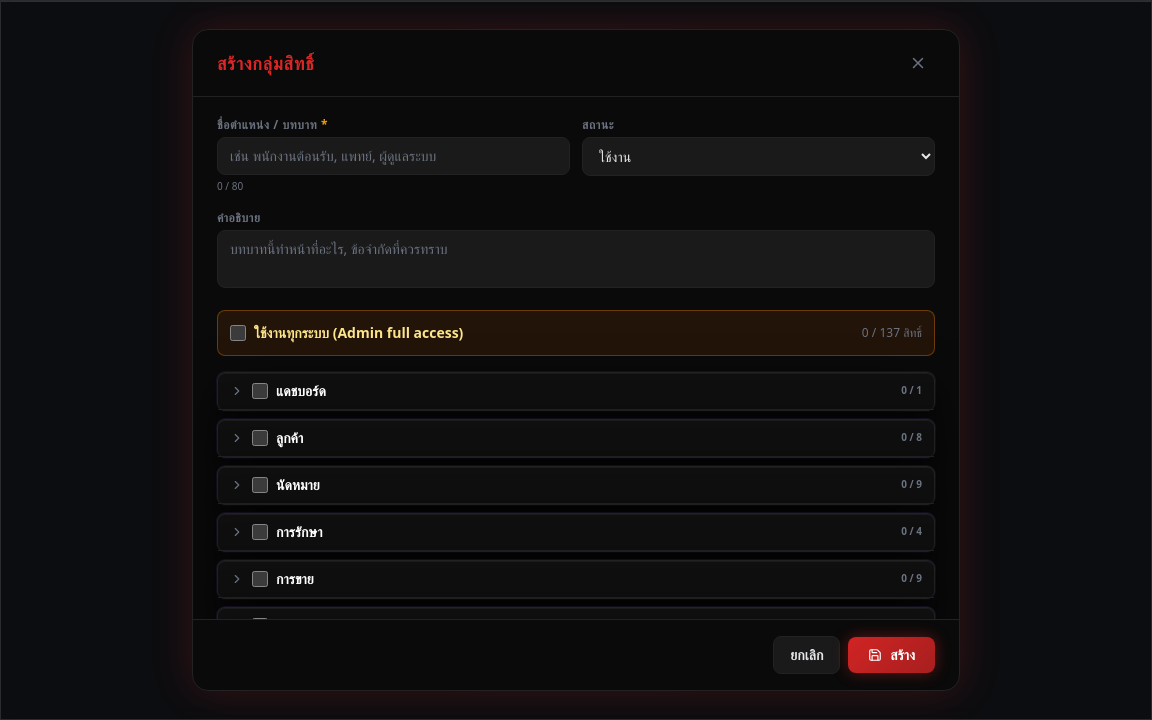
Test: PermissionGroupFormModal — PGM1..PGM6 › PGM2: empty name → error
Click the button "สร้าง".
click(892, 655)  # box [848,637,935,673]
(page scrolled)
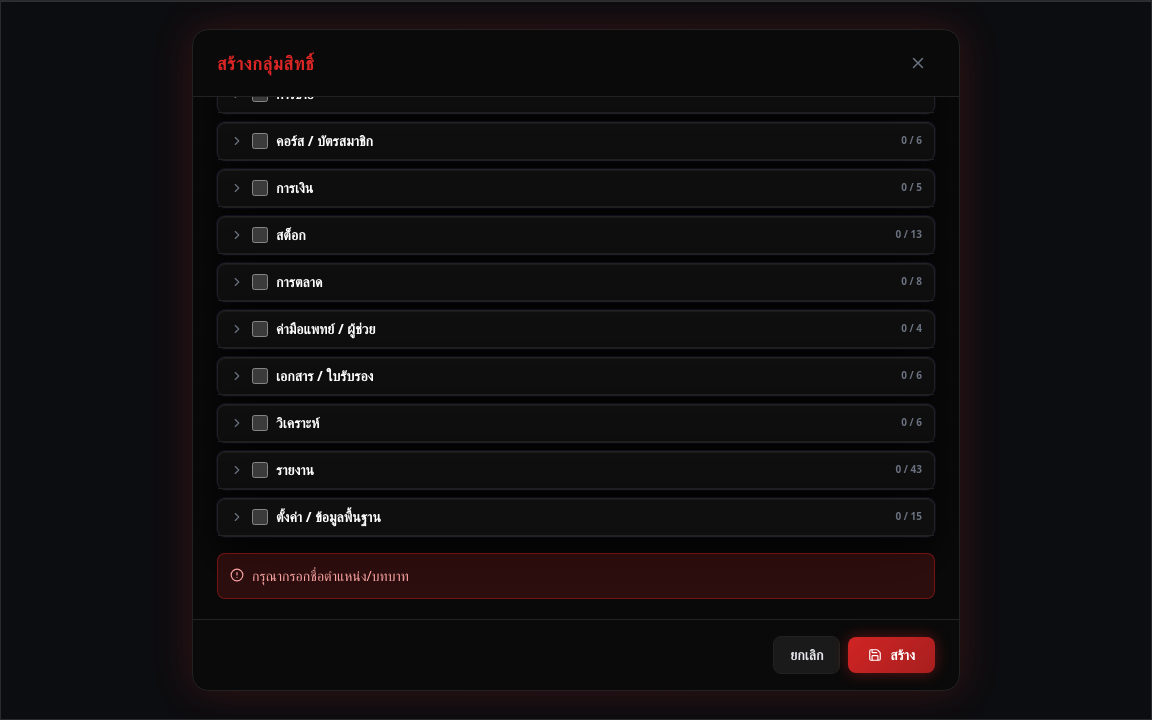
Check: the text "กรุณากรอกชื่อตำแหน่ง/บทบาท" is shown, box [252,566,409,586]
